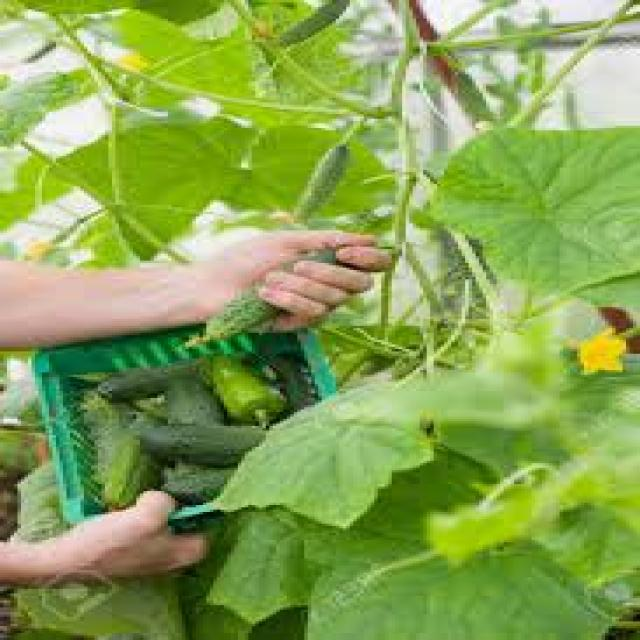basket: (21, 282, 352, 527)
